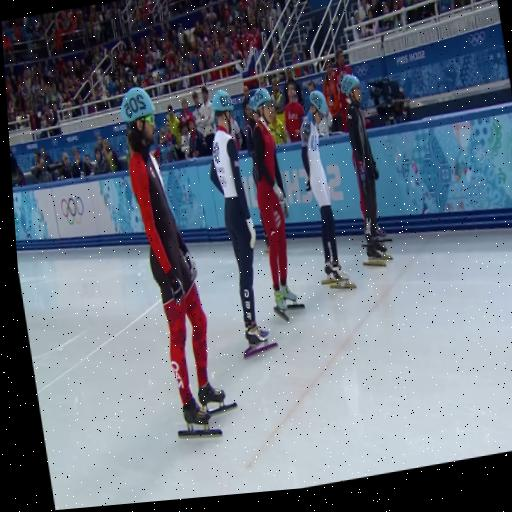Skater: (120, 87, 234, 437), (210, 90, 277, 358), (249, 88, 303, 321), (300, 91, 354, 288), (340, 75, 390, 266)
